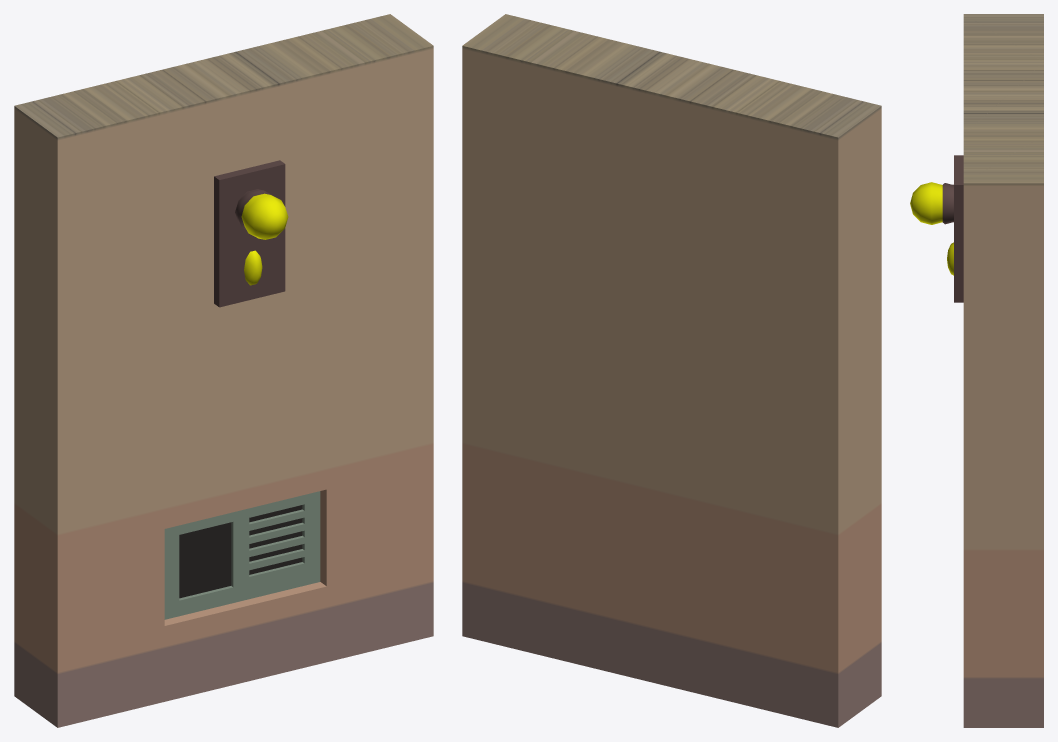
Rendered from Wall02.fbx.
3 renders of one model, left to right at view 1: azimuth 30°, elevation 25°; view 2: azimuth 150°, elevation 25°; view 3: azimuth 270°, elevation 25°, orthographic. The views are drawn at different scales.
Visible parts, largest first — view 1: Wall02; view 2: Wall02; view 3: Wall02.
Part boxes in pixels (box(x1,y1,x2,y2)): Wall02: box(14, 14, 433, 727); Wall02: box(462, 14, 881, 727); Wall02: box(910, 14, 1043, 727).
Size of the model in its own units: 2 by 3 by 0.6683.
